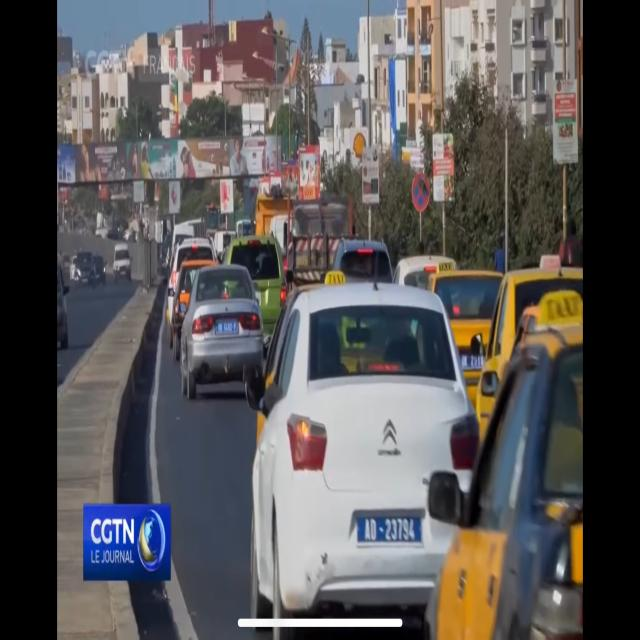bus: (285, 200, 349, 303)
particulier: (248, 258, 487, 634), (175, 292, 269, 402), (226, 234, 287, 339), (332, 240, 397, 290), (72, 253, 97, 285), (115, 244, 132, 282), (94, 255, 107, 285)
taxi: (429, 323, 584, 639), (477, 269, 584, 439), (426, 268, 505, 366), (171, 261, 217, 361)
